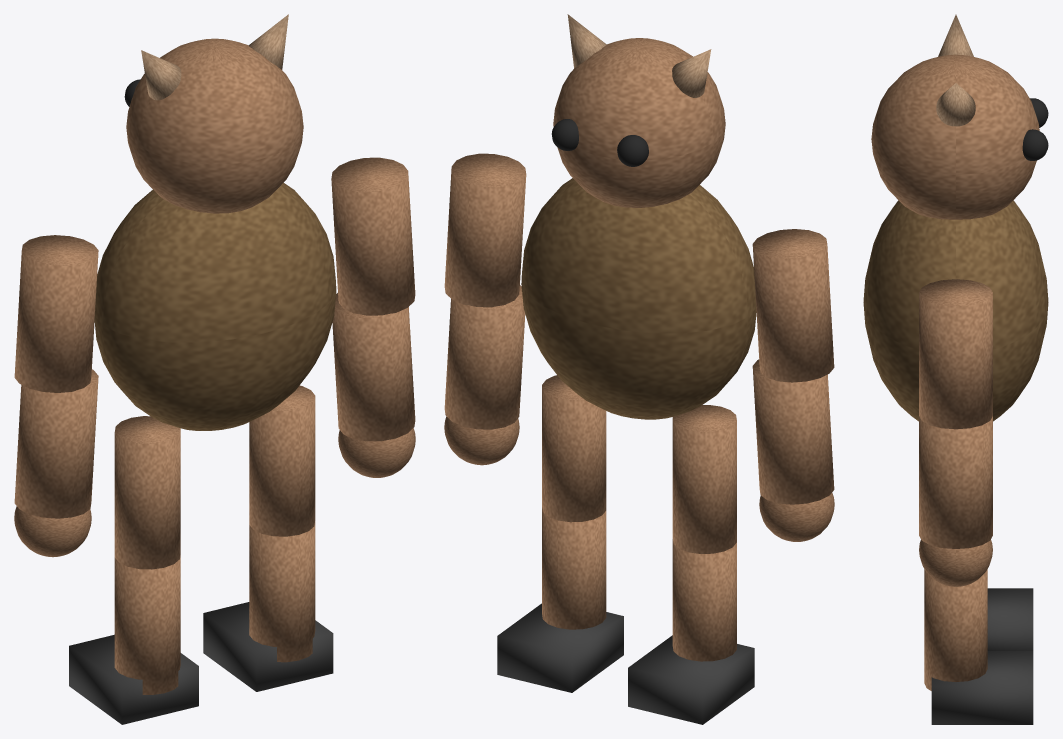
Rendered from faun.glb.
3 views of the same model, side by side, from view 1: azimuth 30°, elevation 25°; view 2: azimuth 150°, elevation 25°; view 3: azimuth 270°, elevation 25° (orthographic). The views are drawn at different scales.
Visible parts, largest first — view 1: Torso, Head, UpperArmR, UpperArmL, ForearmL, ForearmR, ThighL, ThighR, ShinL, ShinR, HoofR, HoofL (+4 smaller); view 2: Torso, Head, UpperArmR, UpperArmL, ForearmL, ForearmR, ThighL, ThighR, HoofR, HoofL, ShinR, ShinL (+6 smaller); view 3: Torso, Head, UpperArmR, ForearmR, ShinR, HoofR, HoofL, HandR, Horn.001, Horn, Eye.001, Eye.
Boxes of the visible parts, x1,y1,x2,y2 form: Torso: (94,182,336,430); Head: (126,38,303,213); UpperArmR: (331,157,415,315); UpperArmL: (14,235,98,392); ForearmL: (14,369,98,518); ForearmR: (332,293,415,441); ThighL: (114,416,180,569); ThighR: (249,385,315,536); ShinL: (114,555,180,694); ShinR: (249,521,315,662); HoofR: (203,602,333,691); HoofL: (69,634,198,724); Torso: (521,178,756,419); Head: (553,38,725,207); UpperArmR: (444,153,526,307); UpperArmL: (752,229,834,382); ForearmL: (752,359,834,504); ForearmR: (444,285,525,429); ThighL: (672,405,736,553); ThighR: (542,375,606,522); HoofR: (497,603,623,692); HoofL: (628,635,754,724); ShinR: (542,507,606,629); ShinL: (672,539,736,661); Torso: (863,200,1048,421); Head: (871,54,1039,219); UpperArmR: (919,279,992,429); ForearmR: (919,416,992,548); ShinR: (924,569,987,690); HoofR: (931,651,1033,724); HoofL: (987,588,1033,650); HandR: (919,540,992,586); Horn.001: (936,83,975,126); Horn: (938,14,973,56); Eye.001: (1022,129,1048,160); Eye: (1030,98,1048,127).
Bounding box in the file's own units: 0.5412 × 0.8696 × 0.2324.
Materials: 5 (3 with a texture image).
